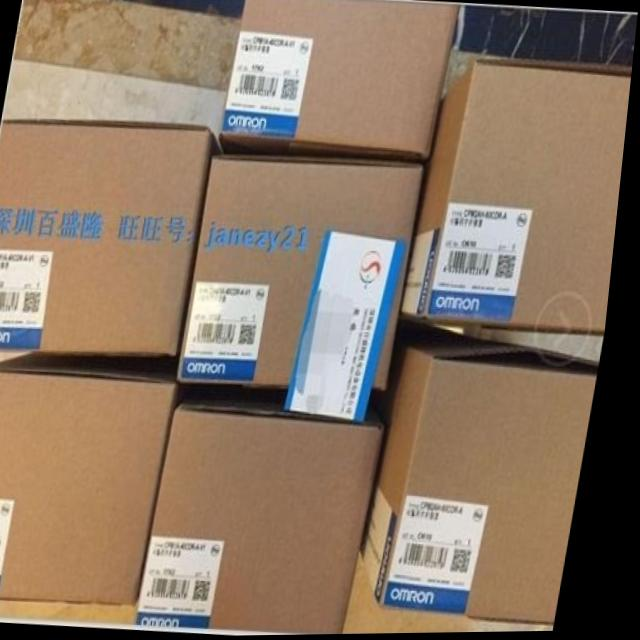box: (371, 341, 607, 626), (405, 57, 634, 337), (147, 397, 395, 636), (184, 156, 428, 393), (0, 120, 222, 356), (0, 368, 186, 605), (221, 0, 460, 163)
